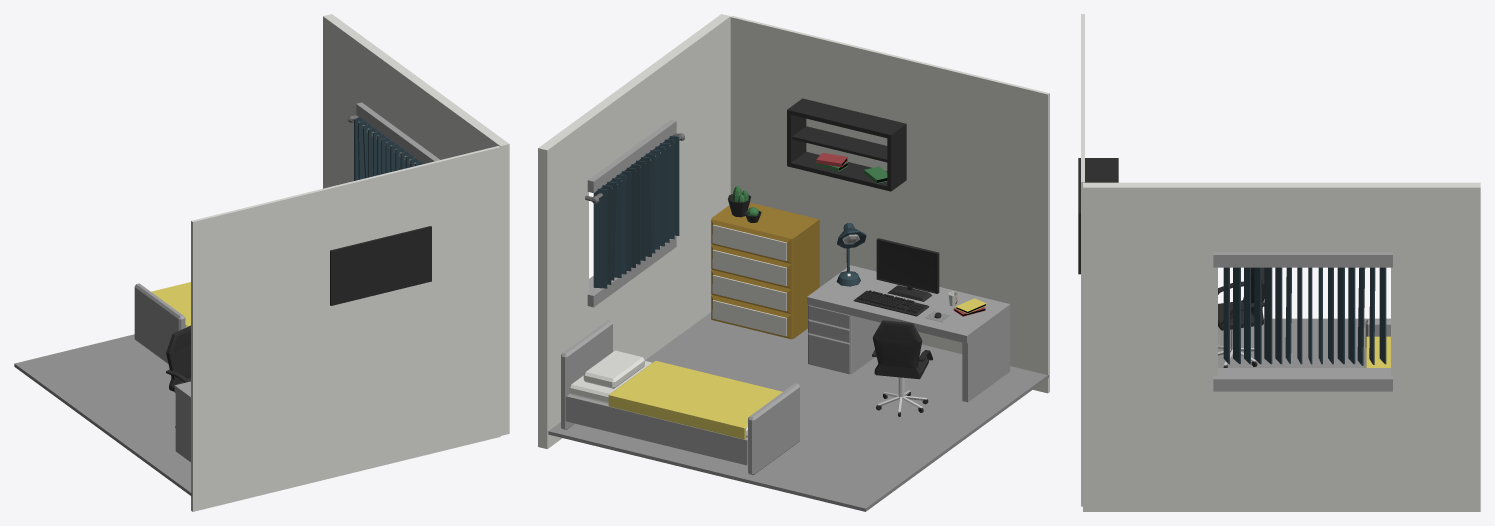
Rendered from Room.fbx.
3 renders of one model, left to right at view 1: azimuth 30°, elevation 25°; view 2: azimuth 150°, elevation 25°; view 3: azimuth 270°, elevation 25°, orthographic. The views are drawn at different scales.
Parts seen in each view (by area): view 1: pCube3, pCube2, pCube1, pCube155, pCube7, pCube16, TABLE, pCube12, pCube10; view 2: pCube3, pCube2, pCube1, TABLE, pCube10, polySurface6, pCube155, pCube5, pCube7, pCube33, pCube12, pCube6 (+16 smaller); view 3: pCube2, pCube15, pCube1, pCube16, pCube3, pCube155, pCube21, pCube28, pCube20, pCube29, pCube22, pCube18 (+12 smaller).
Boxes of the visible parts, box(x1,y1,x2,y2) form: pCube3: box(191, 146, 500, 511); pCube2: box(323, 14, 509, 435); pCube1: box(14, 334, 191, 496); pCube155: box(330, 226, 431, 305); pCube7: box(134, 283, 185, 364); pCube16: box(356, 102, 439, 163); TABLE: box(174, 381, 190, 462); pCube12: box(166, 325, 190, 391); pCube10: box(151, 282, 190, 326); pCube3: box(730, 16, 1049, 393); pCube2: box(538, 14, 730, 449); pCube1: box(548, 312, 1048, 511); TABLE: box(807, 265, 1010, 402); pCube10: box(608, 361, 782, 439); polySurface6: box(711, 202, 819, 339); pCube155: box(787, 98, 906, 191); pCube5: box(565, 394, 747, 465); pCube7: box(748, 383, 799, 475); pCube33: box(876, 238, 939, 293); pCube12: box(873, 320, 928, 379); pCube6: box(561, 320, 612, 429); pCube2: box(1083, 182, 1480, 511); pCube15: box(1213, 368, 1392, 391); pCube1: box(1218, 318, 1390, 367); pCube16: box(1213, 252, 1392, 267); pCube3: box(1081, 14, 1084, 506); pCube155: box(1078, 158, 1118, 274); pCube21: box(1264, 267, 1272, 364); pCube28: box(1337, 267, 1344, 364); pCube20: box(1254, 267, 1261, 364); pCube29: box(1348, 267, 1355, 364); pCube22: box(1275, 267, 1282, 364); pCube18: box(1233, 267, 1240, 363).
Bounding box in the file's own units: 105 × 90 × 101.
